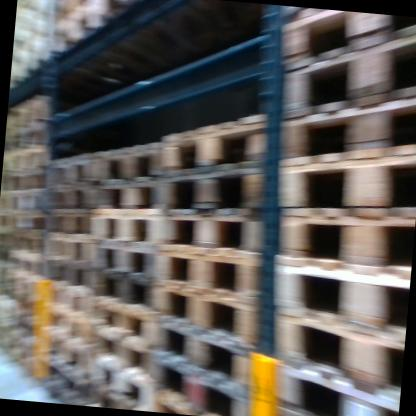pallet: (272, 293, 408, 408), (277, 13, 416, 125), (265, 181, 415, 277), (273, 77, 416, 177), (273, 139, 416, 225), (272, 251, 411, 338), (157, 135, 275, 223), (161, 102, 277, 190), (143, 304, 260, 390), (150, 228, 271, 306), (145, 276, 264, 354), (283, 7, 416, 74), (154, 191, 273, 262), (265, 368, 397, 416), (150, 357, 250, 416), (83, 287, 162, 348), (85, 167, 174, 221), (89, 199, 170, 257), (87, 138, 170, 192), (85, 227, 157, 281), (92, 329, 156, 377), (87, 263, 160, 305), (94, 365, 157, 405)
